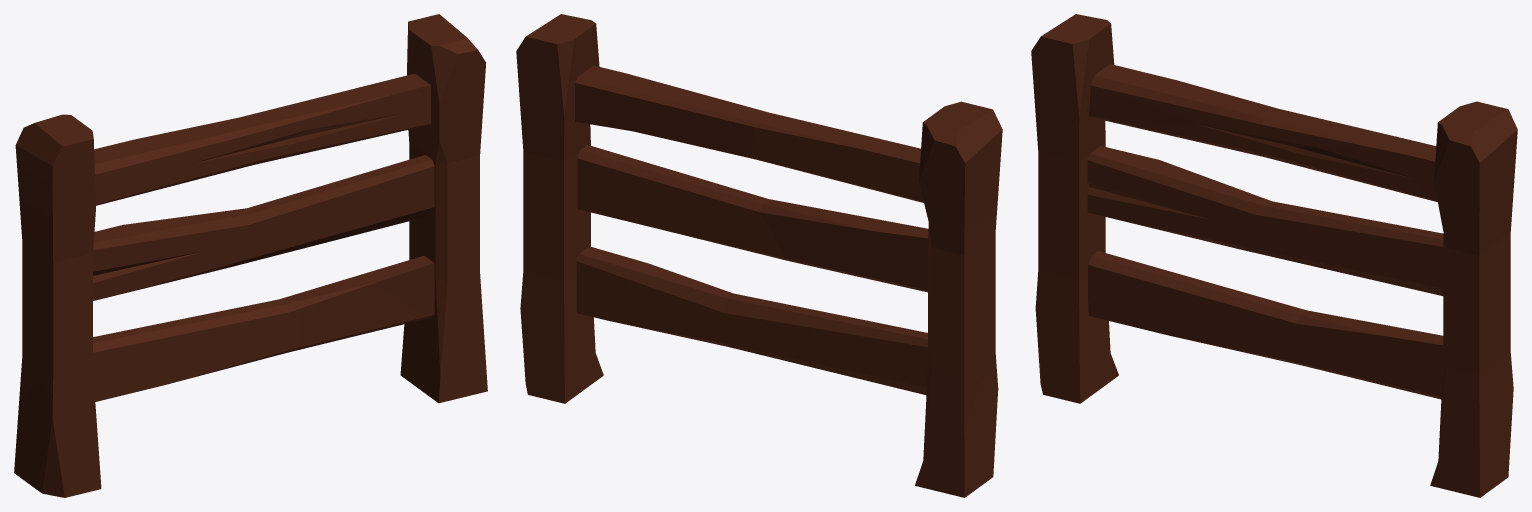
File: Fence_5.fbx
The picture shows the model from 3 angles, left to right: view 1: azimuth 30°, elevation 25°; view 2: azimuth 150°, elevation 25°; view 3: azimuth 330°, elevation 25°; orthographic projection.
Parts seen in each view (by area): view 1: Fence_5; view 2: Fence_5; view 3: Fence_5.
Boxes of the visible parts, x1,y1,x2,y2 form: Fence_5: [14, 14, 487, 497]; Fence_5: [516, 14, 1002, 497]; Fence_5: [1031, 14, 1517, 497].
Bounding box in the file's own units: 53.2 × 40.75 × 8.75.
